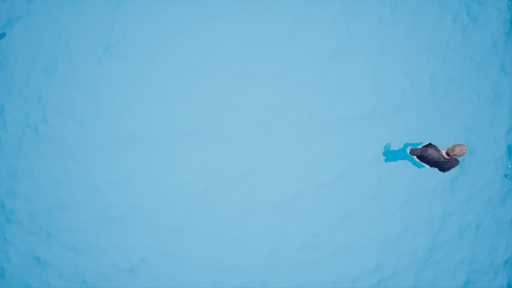person: (378, 140, 467, 176)
